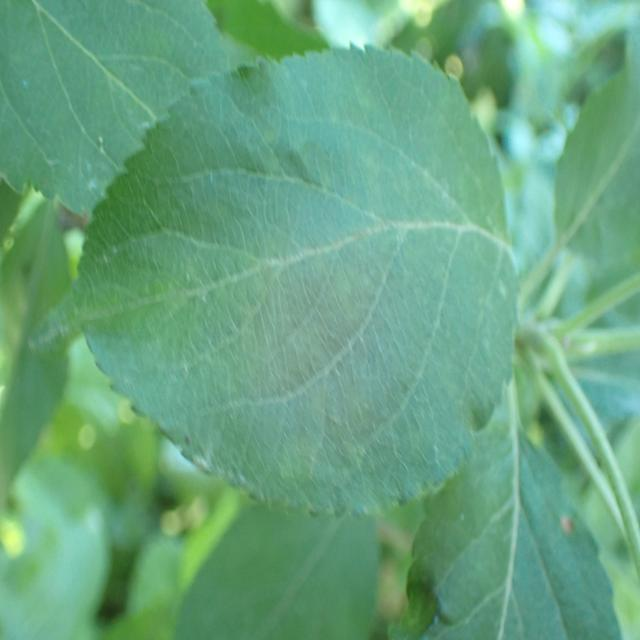scab: (99, 209, 458, 551)
